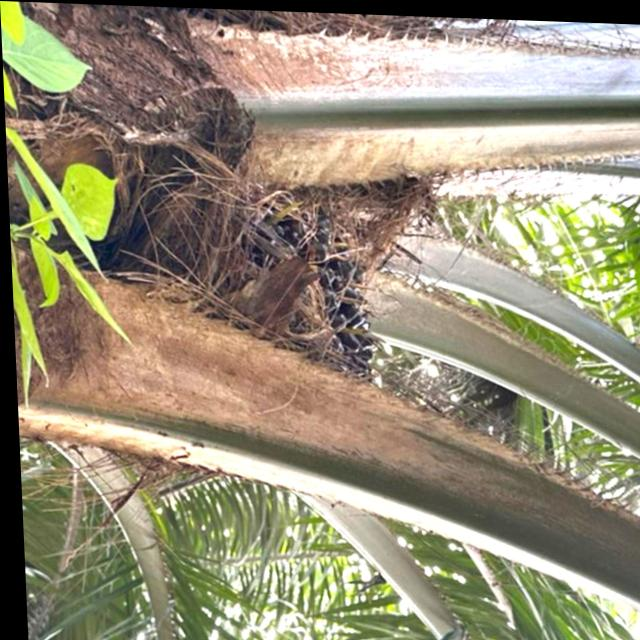almost: (227, 185, 380, 387)
